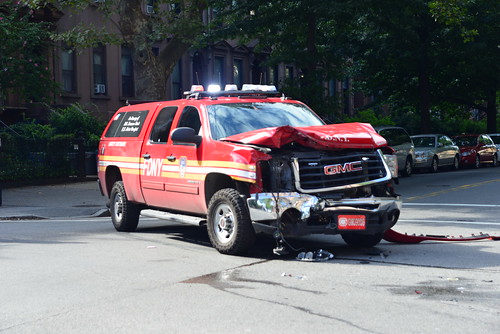car: (90, 75, 422, 266), (408, 135, 458, 177)
street: (17, 183, 500, 334)
